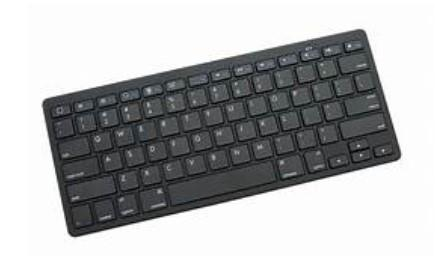Keyboard: (41, 29, 402, 238)
